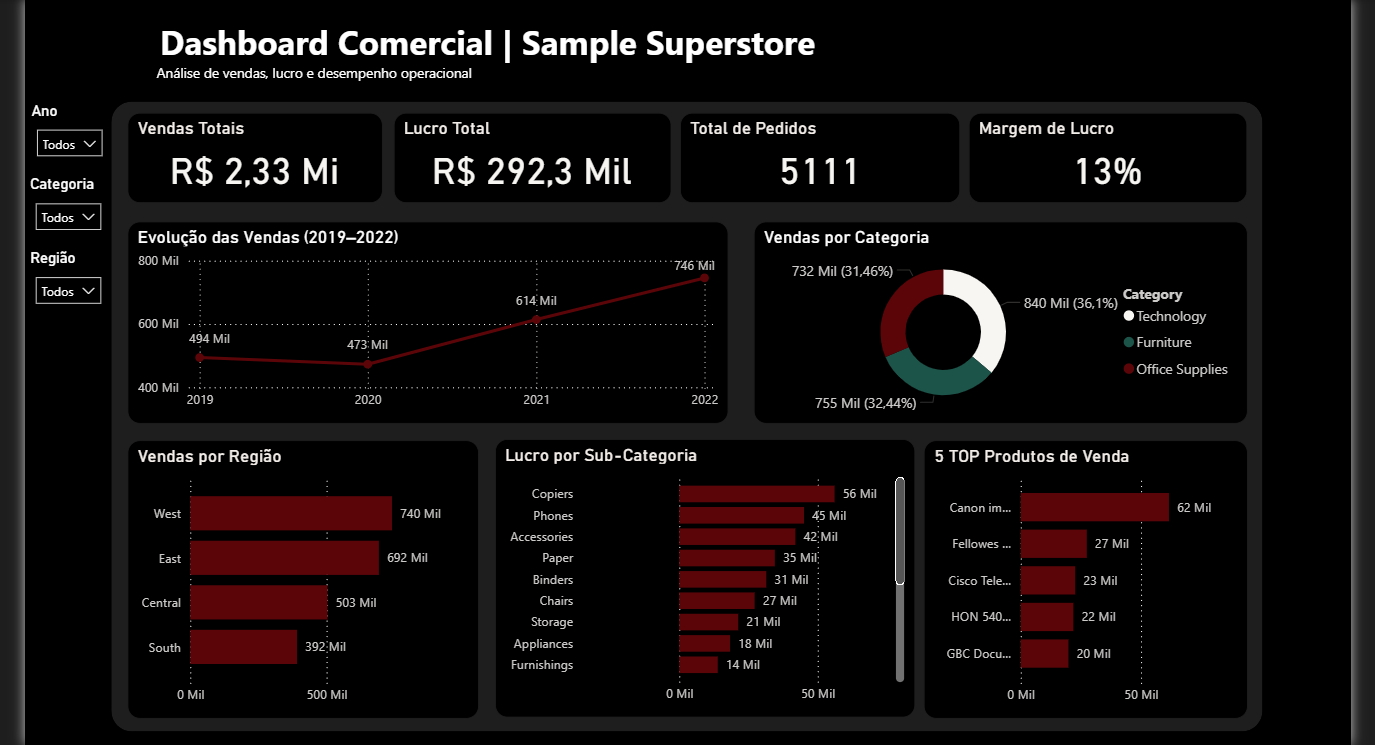

The page's visual inventory and layout, read from the dashboard file:
{"tool":"powerbi","page":{"name":"Visão Executiva","canvas":[1280,720],"ordinal":1},"visuals":[{"type":"shape","box":[83.2,98.9,1111.1,608],"z":0},{"type":"card","title":"Vendas Totais","fields":{"Values":["Orders.Total Sales"]},"box":[98.9,109.8,246.1,86.9],"z":1000},{"type":"card","title":"Total de Pedidos","fields":{"Values":["Orders.Total Orders"]},"box":[632.2,109.8,270.2,86.9],"z":2000},{"type":"card","title":"Lucro Total","fields":{"Values":["Orders.Total Profit"]},"box":[355.9,109.8,267.8,86.9],"z":3000},{"type":"card","title":"Margem de Lucro","fields":{"Values":["Orders.Margem Lucro"]},"box":[910.9,109.8,269,86.9],"z":4000},{"type":"lineChart","title":"Evolução das Vendas (2019–2022)","fields":{"Y":["Orders.Total Sales"],"Category":["Orders.Order Date.Variation.Hierarquia de datas.Ano"]},"box":[98.9,214.7,580.3,195.4],"z":5000},{"type":"donutChart","title":"Vendas por Categoria","fields":{"Category":["Orders.Category"],"Y":["Orders.Total Sales"]},"box":[703.4,214.7,476.5,195.4],"z":6000},{"type":"clusteredBarChart","title":"Vendas por Região","fields":{"Category":["Orders.Region"],"Y":["Orders.Total Sales"]},"box":[98.8,425.4,338.9,269],"z":7000},{"type":"clusteredBarChart","title":"Lucro por Sub-Categoria","fields":{"Y":["Orders.Total Profit"],"Category":["Orders.Sub-Category"]},"box":[453.6,424.7,405.4,269],"z":8000},{"type":"textbox","box":[98.9,14.5,1160.6,84.5],"z":9000},{"type":"clusteredBarChart","title":"5 TOP Produtos de Venda","fields":{"Category":["Orders.Product Name"],"Y":["Orders.Total Sales"]},"box":[867.4,425.9,312.5,269],"z":10000},{"type":"slicer","title":"Ano","fields":{"Values":["Orders.Order Date.Variation.Hierarquia de datas.Ano"]},"box":[1.2,98.9,83.2,71.2],"z":11000},{"type":"slicer","title":"Categoria","fields":{"Values":["Orders.Category"]},"box":[0,170.1,83.2,71.2],"z":12000},{"type":"slicer","title":"Região","fields":{"Values":["Orders.Region"]},"box":[0,241.3,83.2,71.2],"z":13000},{"type":"textbox","box":[121.9,56.7,413.8,42.2],"z":14000}]}

Visuals, with their boxes on the page's 1280x720 design canvas (x1, y1, x2, y2). These are canvas units, not pixel positions in the 1375x745 screenshot, which may show the page scaled, cropped or inside an application window:
shape: box(83, 99, 1194, 707)
"Vendas Totais" card: box(99, 110, 345, 197)
"Total de Pedidos" card: box(632, 110, 902, 197)
"Lucro Total" card: box(356, 110, 624, 197)
"Margem de Lucro" card: box(911, 110, 1180, 197)
"Evolução das Vendas (2019–2022)" lineChart: box(99, 215, 679, 410)
"Vendas por Categoria" donutChart: box(703, 215, 1180, 410)
"Vendas por Região" clusteredBarChart: box(99, 425, 438, 694)
"Lucro por Sub-Categoria" clusteredBarChart: box(454, 425, 859, 694)
textbox: box(99, 14, 1260, 99)
"5 TOP Produtos de Venda" clusteredBarChart: box(867, 426, 1180, 695)
"Ano" slicer: box(1, 99, 84, 170)
"Categoria" slicer: box(0, 170, 83, 241)
"Região" slicer: box(0, 241, 83, 312)
textbox: box(122, 57, 536, 99)
